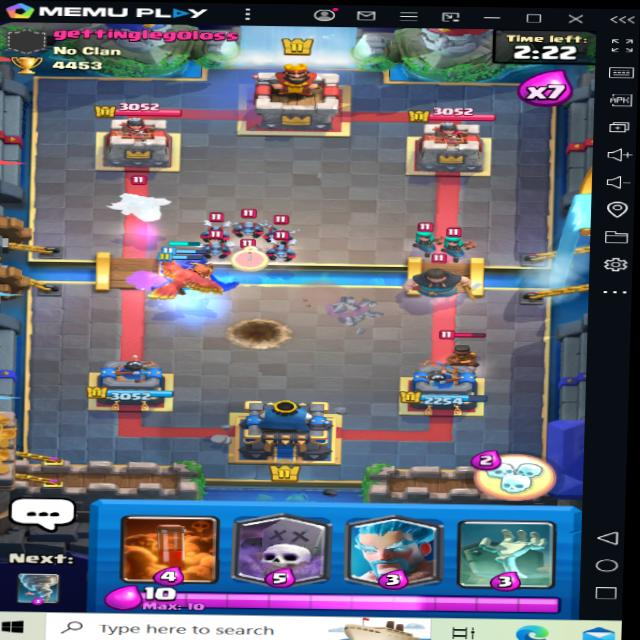electro-dragon: (109, 176, 174, 224)
minion: (266, 235, 304, 262), (233, 208, 266, 237), (267, 216, 300, 242), (200, 211, 229, 237), (202, 237, 235, 258)
ram-rider: (441, 331, 487, 376)
rascal-boy: (405, 257, 480, 302)
rascal-girl: (436, 222, 482, 256), (404, 217, 447, 248)
